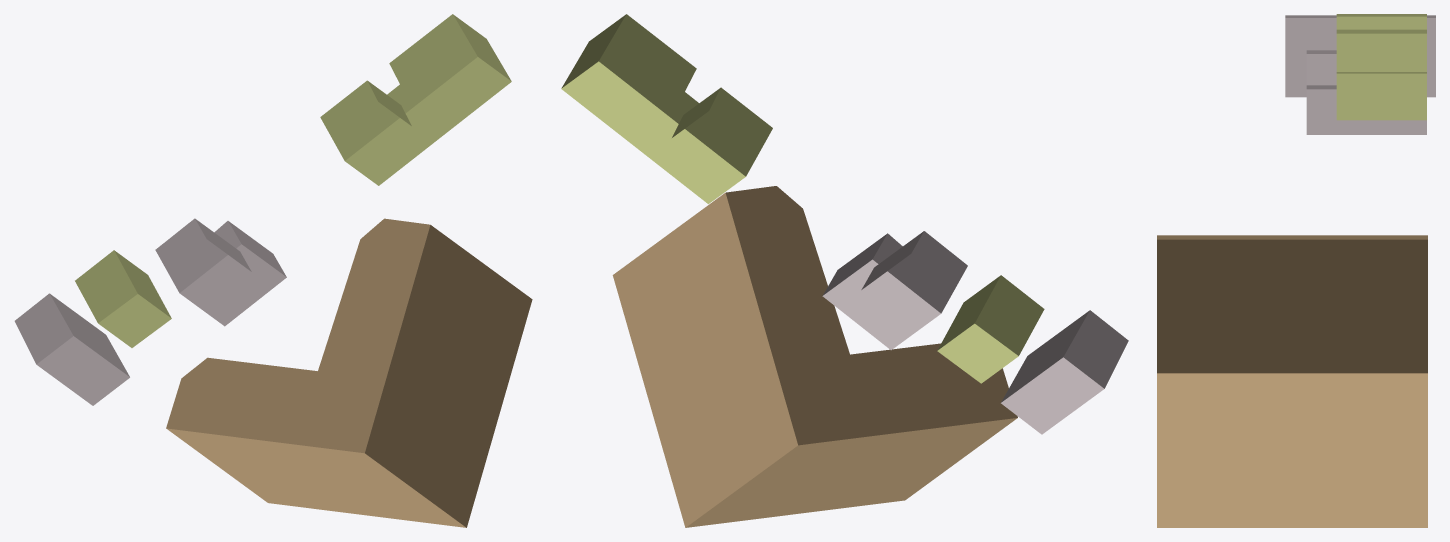
3 views of the same model, side by side, from view 1: azimuth 30°, elevation 25°; view 2: azimuth 150°, elevation 25°; view 3: azimuth 270°, elevation 25° (orthographic). The views are drawn at different scales.
Visible parts, largest first — view 1: 0_0_1_2_0_0_3_1; view 2: 0_0_1_2_0_0_3_1; view 3: 0_0_1_2_0_0_3_1.
Part boxes in pixels (x1,y1,x2,y2): 0_0_1_2_0_0_3_1: [14, 14, 532, 527]; 0_0_1_2_0_0_3_1: [561, 14, 1128, 527]; 0_0_1_2_0_0_3_1: [1157, 14, 1435, 527].
Bounding box in the file's own units: 70.3 × 61.07 × 27.8.
